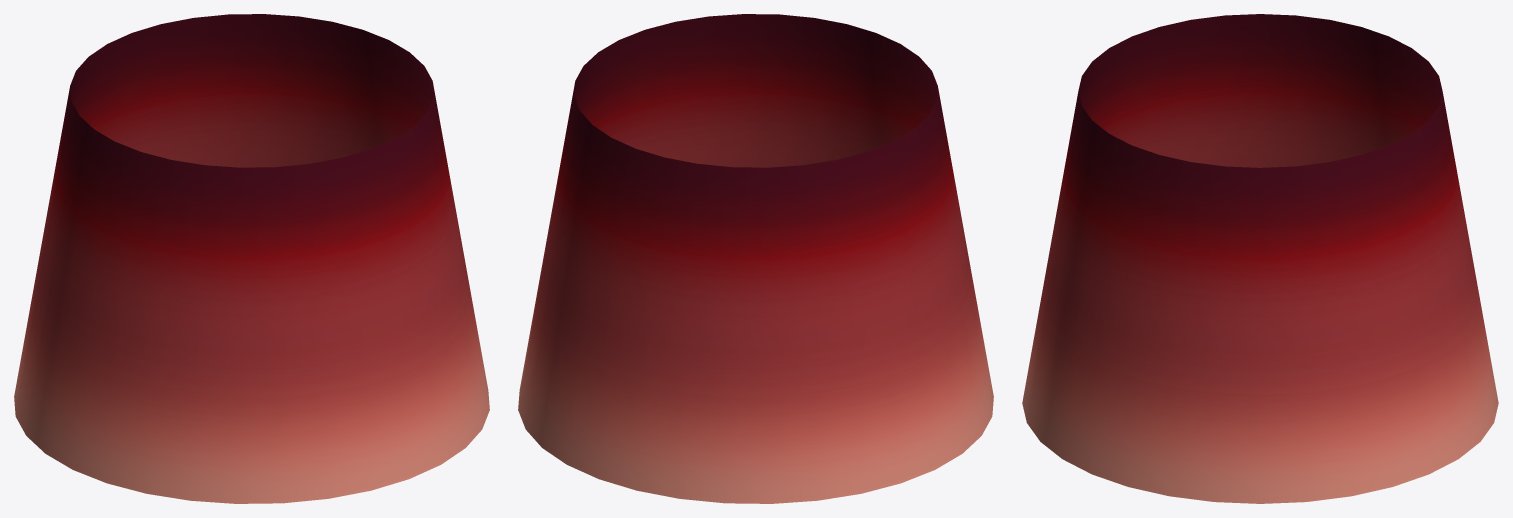
3 renders of one model, left to right at view 1: azimuth 30°, elevation 25°; view 2: azimuth 150°, elevation 25°; view 3: azimuth 270°, elevation 25°, orthographic.
Visible parts, largest first — view 1: SM_FX_Cylinder_01; view 2: SM_FX_Cylinder_01; view 3: SM_FX_Cylinder_01.
Part boxes in pixels (x1,y1,x2,y2): SM_FX_Cylinder_01: (14, 14, 489, 503); SM_FX_Cylinder_01: (518, 14, 993, 503); SM_FX_Cylinder_01: (1022, 14, 1498, 503).
Size of the model in its own units: 2.62 by 1.89 by 2.62.
